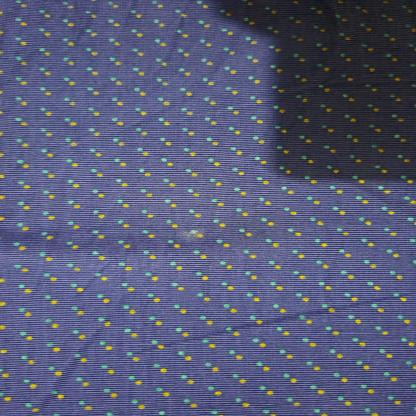spot: (176, 220, 214, 250)
